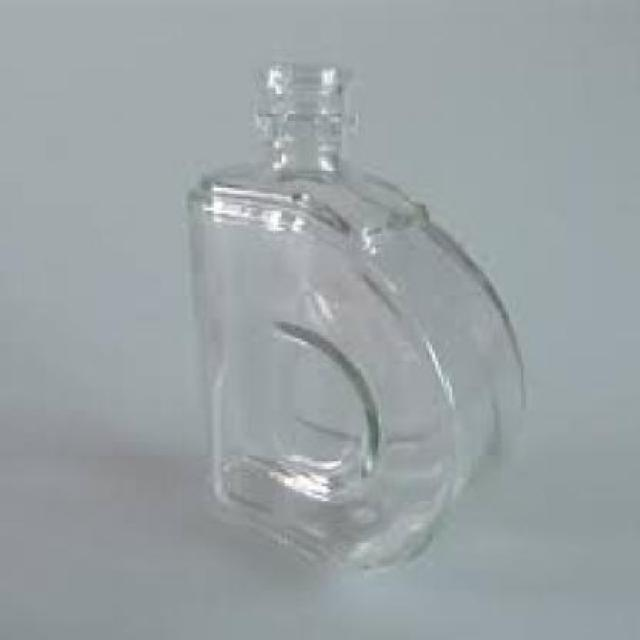kaca: (183, 63, 522, 569)
